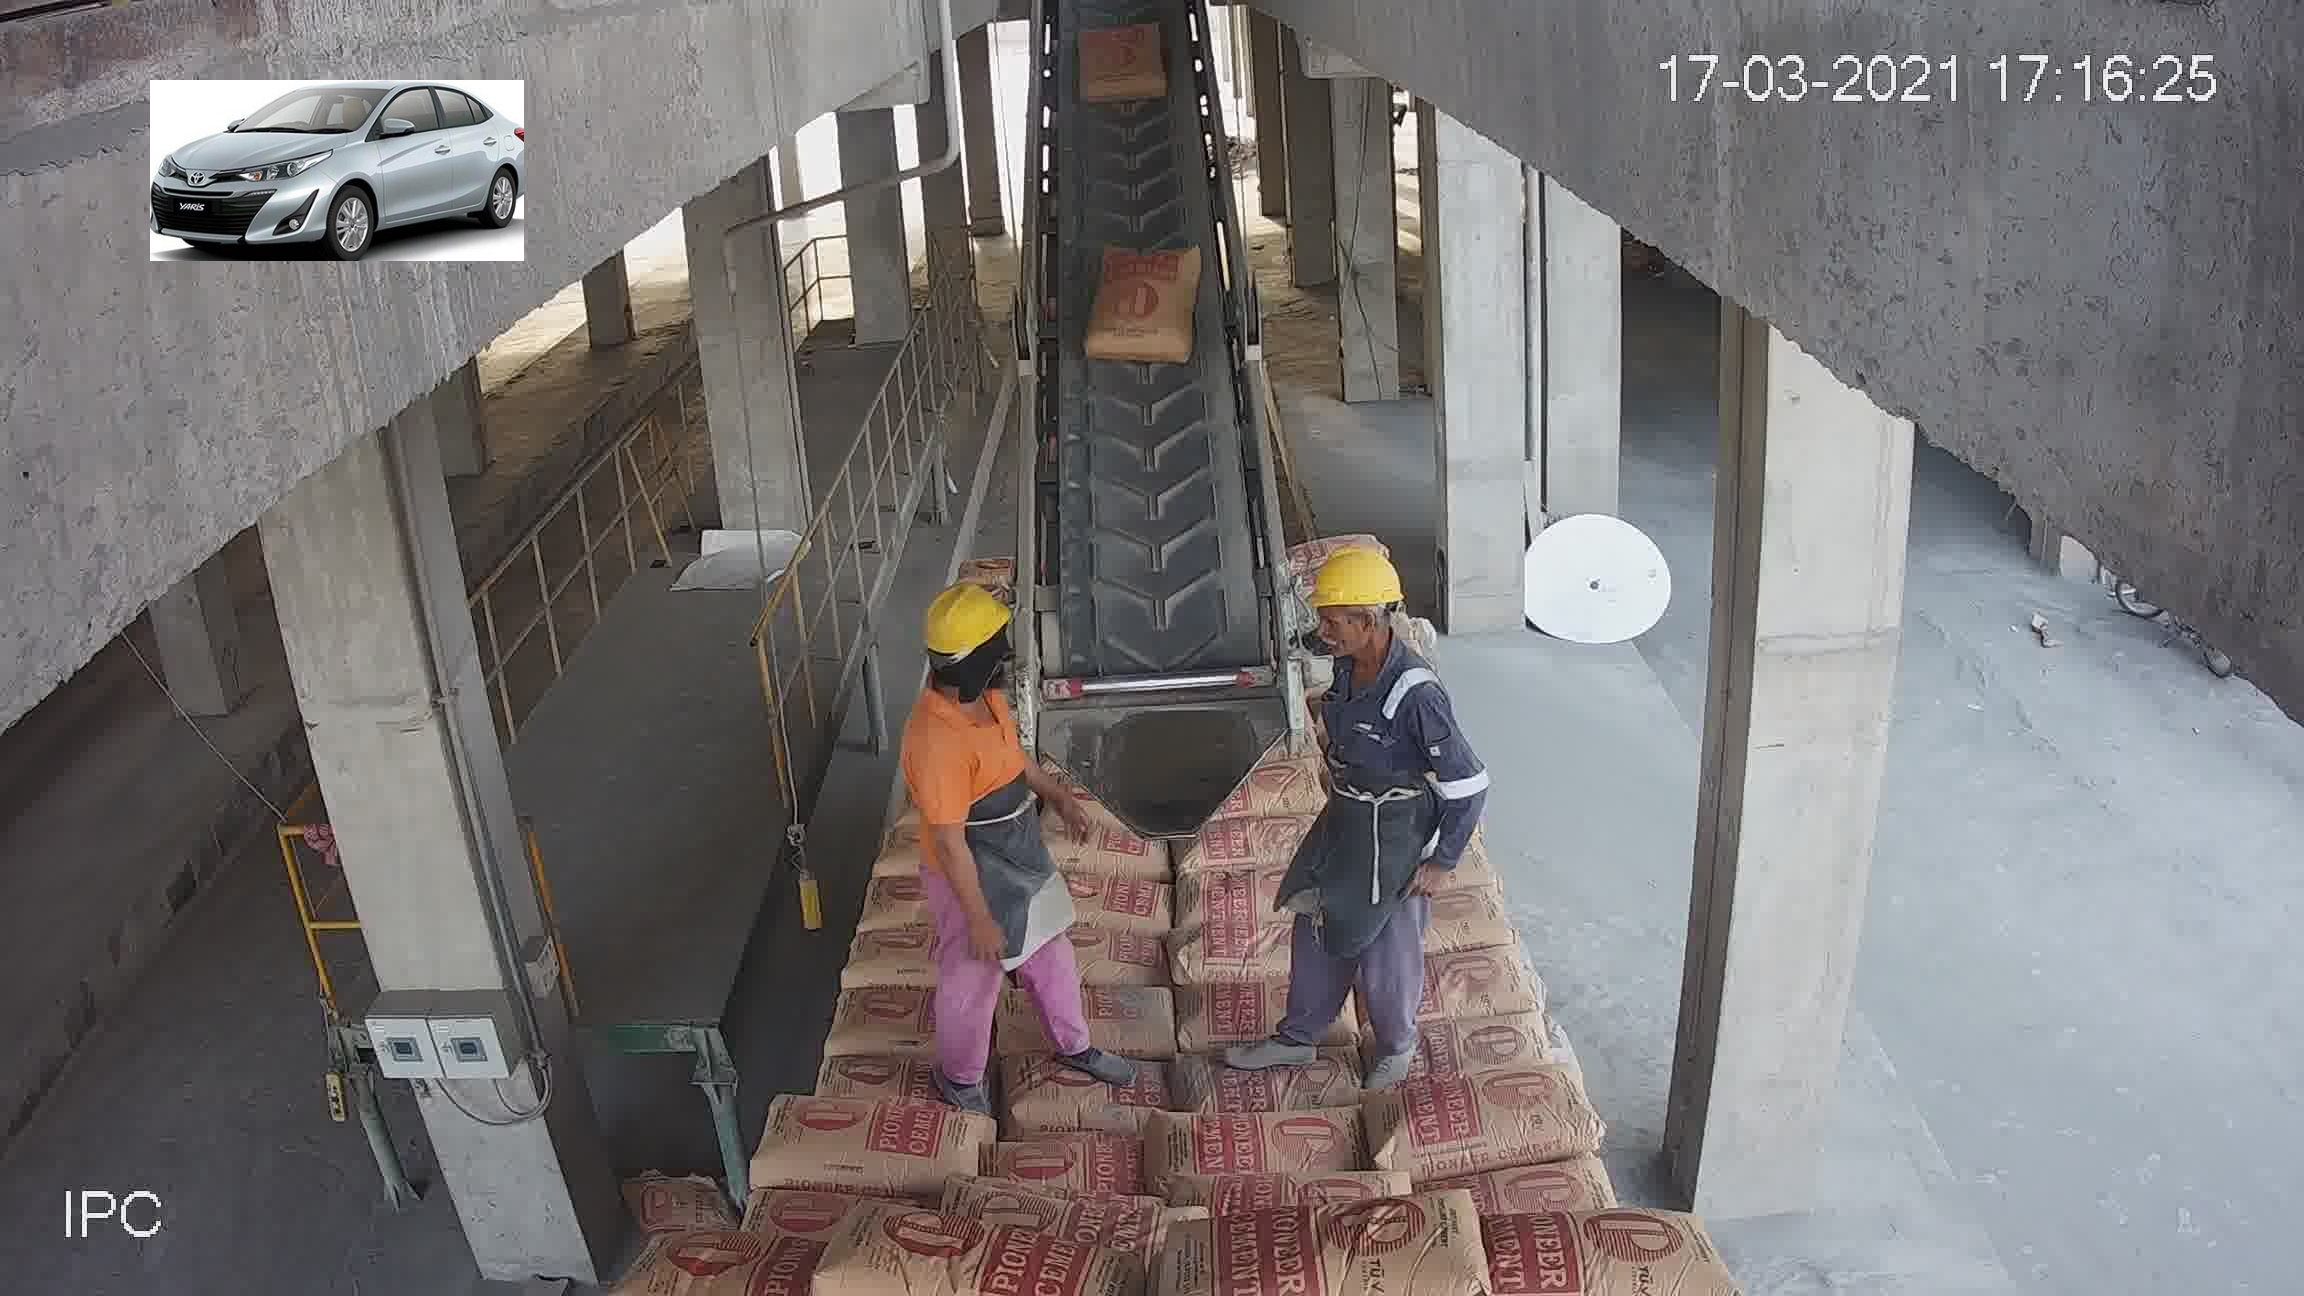bag: (1086, 236, 1211, 354), (1074, 14, 1166, 104)
bag_h: (1199, 1182, 1524, 1294), (1347, 1060, 1601, 1188), (794, 1215, 1135, 1294), (1432, 1203, 1700, 1296), (756, 1100, 991, 1192), (1152, 1105, 1378, 1199), (1176, 1032, 1369, 1117), (639, 1230, 848, 1296), (1040, 1049, 1214, 1127), (796, 1040, 972, 1109), (991, 1143, 1163, 1211), (1416, 946, 1541, 1038), (818, 984, 946, 1071), (1416, 1003, 1571, 1074), (1071, 980, 1199, 1060), (1177, 866, 1291, 953), (1043, 869, 1171, 938), (1169, 927, 1304, 991), (1187, 813, 1301, 881), (1043, 824, 1169, 885), (1059, 927, 1173, 992), (1184, 981, 1291, 1041)
belt: (1025, 63, 1301, 772)
